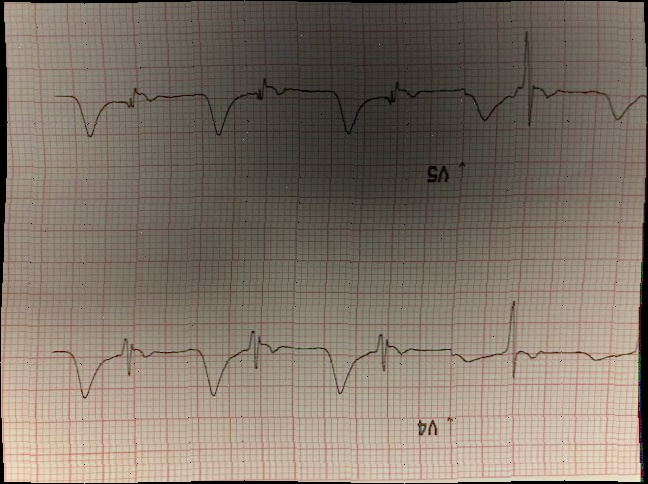Lead_V4: (40, 283, 646, 452)
Lead_V5: (34, 16, 648, 199)
